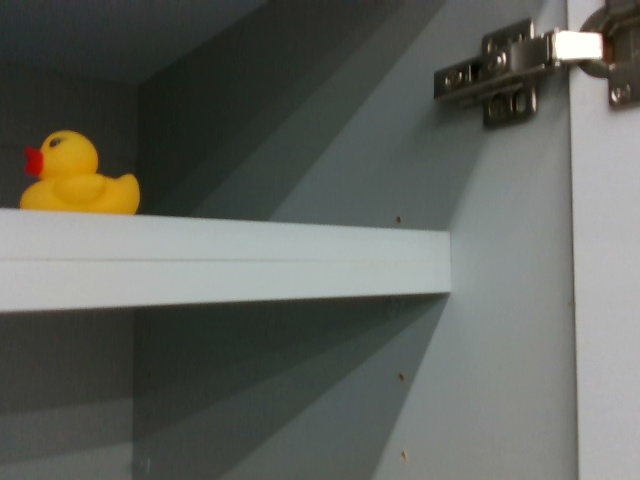duck: (14, 125, 146, 218)
